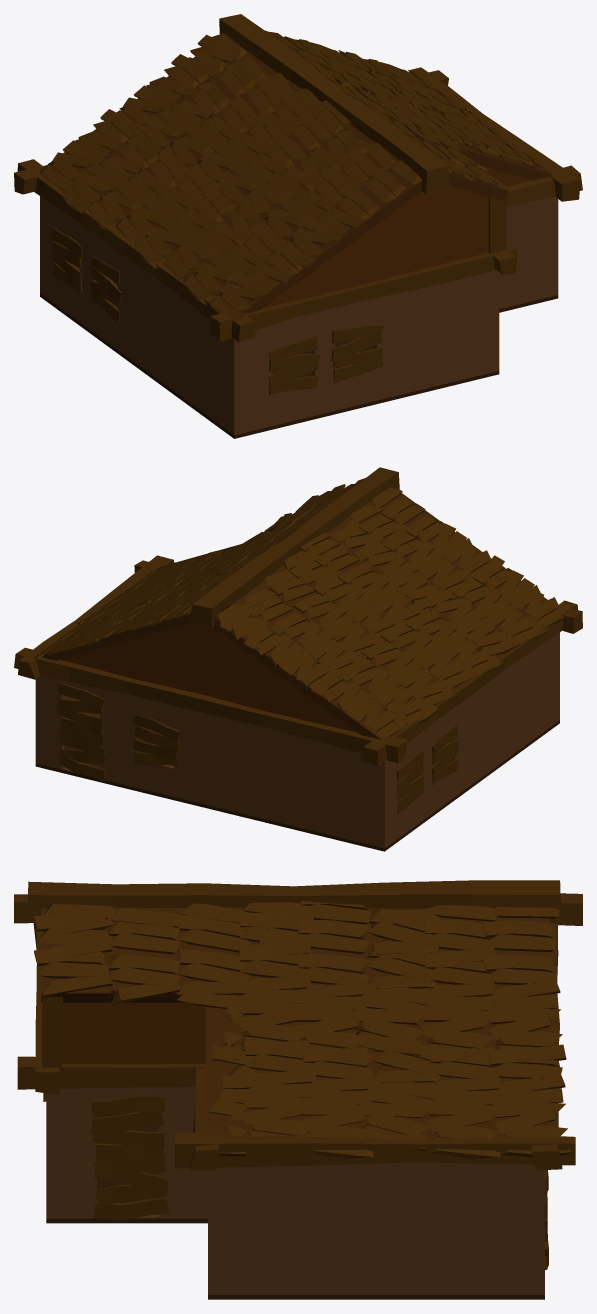
Rendered from cottage.fbx.
3 views of the same model, one above another, from view 1: azimuth 30°, elevation 25°; view 2: azimuth 150°, elevation 25°; view 3: azimuth 270°, elevation 25° (orthographic). The views are drawn at different scales.
Visible parts, largest first — view 1: cottage_LOD0; view 2: cottage_LOD0; view 3: cottage_LOD0.
Part boxes in pixels (x1,y1,x2,y2): cottage_LOD0: [14, 14, 582, 438]; cottage_LOD0: [14, 467, 582, 851]; cottage_LOD0: [14, 880, 582, 1299].
Size of what is drawn, in the model's own units: 2561 by 1319 by 2318.
